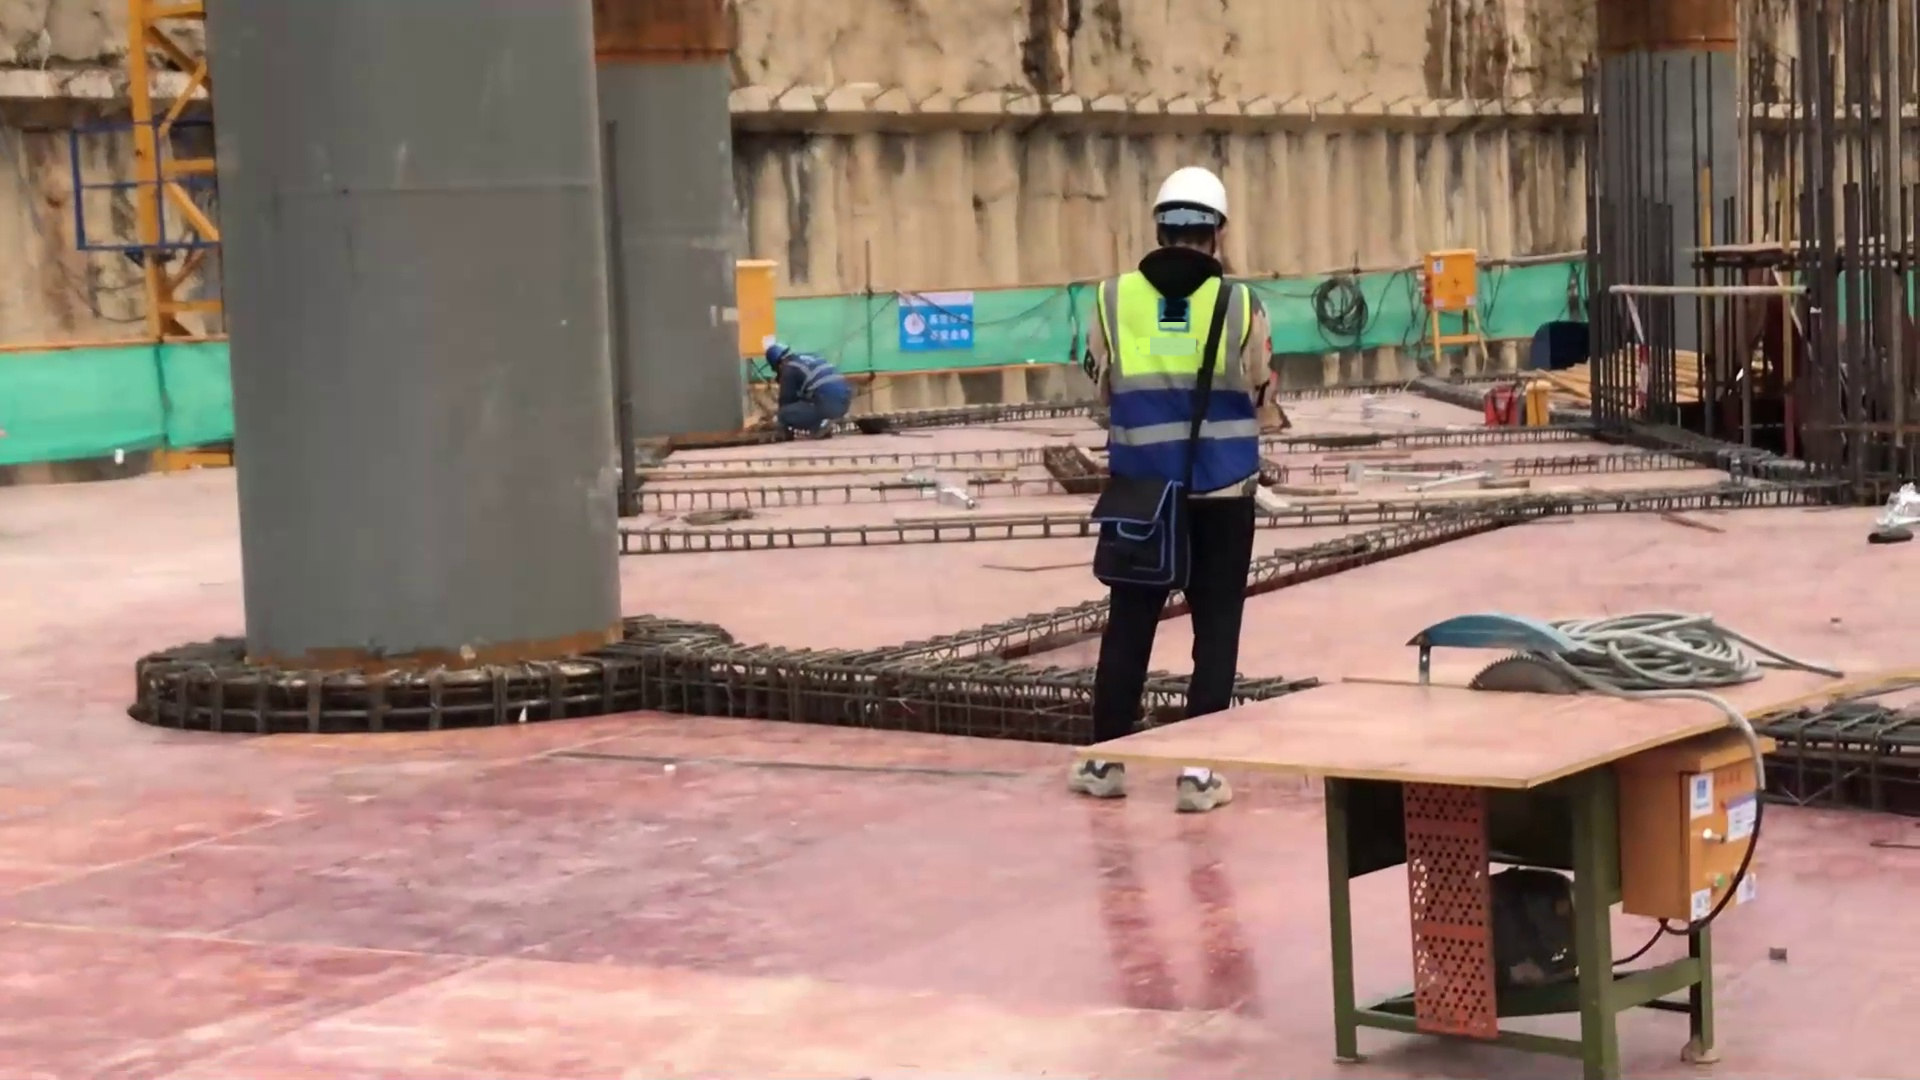cutter: (1077, 596, 1910, 1078)
ebox: (1639, 730, 1788, 942), (1398, 229, 1552, 425), (733, 252, 782, 377)
helmet: (1139, 166, 1231, 257), (762, 341, 796, 364)
person: (1082, 168, 1278, 754), (756, 337, 859, 441)
slogan: (875, 277, 1016, 388)
vest: (1092, 266, 1265, 505), (791, 354, 853, 405)
